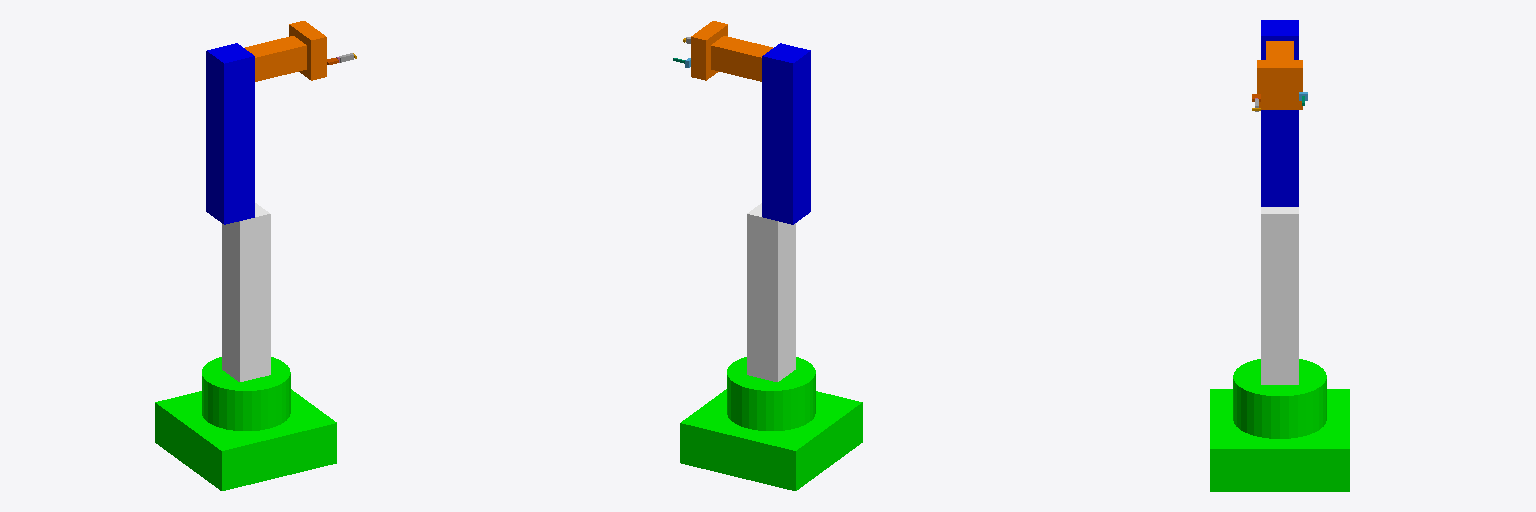
URDF robot description (robot):
<?xml version='1.0' encoding='utf-8'?>
<robot name="robot">
  <link name="base_link">
    <visual>
      <origin xyz="0 0 0.125" rpy="0 0 0" />
      <geometry>
        <box size="0.75 0.75 0.25" />
      </geometry>
      <material name="green" />
    </visual>
    <visual>
      <origin xyz="0 0 0.375" rpy="0 0 0" />
      <geometry>
        <cylinder length="0.25" radius="0.25" />
      </geometry>
      <material name="green">
        <color rgba="0 1 0 1" />
      </material>
    </visual>
    <collision>
      <geometry>
        <box size="0.75 0.75 0.5" />
      </geometry>
    </collision>
    <inertial>
      <mass value="0.5" />
      <inertia ixx="0.034" ixy="0.0" ixz="0.0" iyy="0.034" iyz="0.0" izz="0.034" />
    </inertial>
  </link>
  <link name="support_link">
    <visual>
      <origin xyz="0 0 0.5" rpy="0 0 0" />
      <geometry>
        <box size="0.2 0.2 1" />
      </geometry>
      <material name="white">
        <color rgba="1 1 1 1" />
      </material>
    </visual>
    <collision>
      <geometry>
        <box size="0.2 0.2 1" />
      </geometry>
    </collision>
    <inertial>
      <mass value="0.1" />
      <inertia ixx="0.01" ixy="0.0" ixz="0.0" iyy="0.01" iyz="0.0" izz="0.01" />
    </inertial>
  </link>
  <joint name="support_joint" type="continuous">
    <origin xyz="0 0 0.5" rpy="0 0 0" />
    <parent link="base_link" />
    <child link="support_link" />
    <axis xyz="0 0 1" />
  </joint>
  <link name="arm_link">
    <visual>
      <origin xyz="0 0 0.5" rpy="0 0 0" />
      <geometry>
        <box size="0.2 0.2 1" />
      </geometry>
      <material name="blue">
        <color rgba="0 0 1 1" />
      </material>
    </visual>
    <collision>
      <geometry>
        <box size="0.2 0.2 1" />
      </geometry>
    </collision>
    <inertial>
      <mass value="0.1" />
      <inertia ixx="0.01" ixy="0.0" ixz="0.0" iyy="0.01" iyz="0.0" izz="0.01" />
    </inertial>
  </link>
  <joint name="arm_joint" type="revolute">
    <origin xyz="-0.1 0 1" rpy="0 0 0" />
    <parent link="support_link" />
    <child link="arm_link" />
    <axis xyz="0 1 0" />
    <limit lower="-3.14" upper="3.14" effort="1.0" velocity="1.0" />
  </joint>
  <link name="wrist_link">
    <visual>
      <origin xyz="0 0 0.25" rpy="0 0 0" />
      <geometry>
        <box size="0.15 0.15 0.5" />
      </geometry>
      <material name="orange">
        <color rgba="1 0.5 0 1" />
      </material>
    </visual>
    <collision>
      <geometry>
        <box size="0.15 0.15 0.5" />
      </geometry>
    </collision>
    <inertial>
      <mass value="0.1" />
      <inertia ixx="0.01" ixy="0.0" ixz="0.0" iyy="0.01" iyz="0.0" izz="0.01" />
    </inertial>
  </link>
  <joint name="wrist_joint" type="fixed">
    <origin xyz="0 0 0.9" rpy="0 1.571 0" />
    <parent link="arm_link" />
    <child link="wrist_link" />
  </joint>
  <link name="palm_link">
    <visual>
      <origin xyz="0 0 0.05" rpy="0 0 0" />
      <geometry>
        <box size="0.25 0.25 0.1" />
      </geometry>
      <material name="orange" />
    </visual>
    <collision>
      <geometry>
        <box size="0.25 0.25 0.1" />
      </geometry>
    </collision>
    <inertial>
      <mass value="0.1" />
      <inertia ixx="0.01" ixy="0.0" ixz="0.0" iyy="0.01" iyz="0.0" izz="0.01" />
    </inertial>
  </link>
  <joint name="palm_joint" type="fixed">
    <origin xyz="0 0 0.45" rpy="0 0 0" />
    <parent link="wrist_link" />
    <child link="palm_link" />
  </joint>
  <link name="finger_link_0_0">
    <visual>
      <origin xyz="0 0 0.034" rpy="0 0 0" />
      <geometry>
        <box size="0.017 0.045 0.068" />
      </geometry>
    </visual>
    <collision>
      <geometry>
        <box size="0.017 0.045 0.068" />
      </geometry>
    </collision>
    <inertial>
      <mass value="0.016" />
      <inertia ixx="0.0" iyy="0.0" izz="0.0" ixy="0" ixz="0" iyz="0" />
    </inertial>
  </link>
  <joint name="finger_joint_palm_link_to_finger_link_0_0" type="revolute">
    <origin xyz="0.036 -0.125 0.1" rpy="0 0 0" />
    <parent link="palm_link" />
    <child link="finger_link_0_0" />
    <axis xyz="1.0 0.0 0.0" />
    <limit lower="-3.142" upper="3.142" effort="10" velocity="10" />
  </joint>
  <link name="finger_link_0_1">
    <visual>
      <origin xyz="0 0 0.008" rpy="0 0 0" />
      <geometry>
        <box size="0.029 0.017 0.016" />
      </geometry>
    </visual>
    <collision>
      <geometry>
        <box size="0.029 0.017 0.016" />
      </geometry>
    </collision>
    <inertial>
      <mass value="0.002" />
      <inertia ixx="0.0" iyy="0.0" izz="0.0" ixy="0" ixz="0" iyz="0" />
    </inertial>
  </link>
  <joint name="finger_joint_finger_link_0_0_to_finger_link_0_1" type="revolute">
    <origin xyz="0.0 0.0 0.068" rpy="0 0 0" />
    <parent link="finger_link_0_0" />
    <child link="finger_link_0_1" />
    <axis xyz="0.0 1.0 0.0" />
    <limit lower="-3.142" upper="3.142" effort="10" velocity="10" />
  </joint>
  <link name="finger_link_0_2">
    <visual>
      <origin xyz="0 0 0.044" rpy="0 0 0" />
      <geometry>
        <box size="0.032 0.021 0.088" />
      </geometry>
    </visual>
    <collision>
      <geometry>
        <box size="0.032 0.021 0.088" />
      </geometry>
    </collision>
    <inertial>
      <mass value="0.018" />
      <inertia ixx="0.0" iyy="0.0" izz="0.0" ixy="0" ixz="0" iyz="0" />
    </inertial>
  </link>
  <joint name="finger_joint_finger_link_0_1_to_finger_link_0_2" type="revolute">
    <origin xyz="0.0 0.0 0.016" rpy="0 0 0" />
    <parent link="finger_link_0_1" />
    <child link="finger_link_0_2" />
    <axis xyz="1.0 0.0 0.0" />
    <limit lower="-3.142" upper="3.142" effort="10" velocity="10" />
  </joint>
  <link name="finger_link_0_3">
    <visual>
      <origin xyz="0 0 0.006" rpy="0 0 0" />
      <geometry>
        <box size="0.015 0.043 0.012" />
      </geometry>
    </visual>
    <collision>
      <geometry>
        <box size="0.015 0.043 0.012" />
      </geometry>
    </collision>
    <inertial>
      <mass value="0.002" />
      <inertia ixx="0.0" iyy="0.0" izz="0.0" ixy="0" ixz="0" iyz="0" />
    </inertial>
  </link>
  <joint name="finger_joint_finger_link_0_2_to_finger_link_0_3" type="revolute">
    <origin xyz="0.0 0.0 0.088" rpy="0 0 0" />
    <parent link="finger_link_0_2" />
    <child link="finger_link_0_3" />
    <axis xyz="1.0 1.0 0.0" />
    <limit lower="-3.142" upper="3.142" effort="10" velocity="10" />
  </joint>
  <link name="finger_link_1_0">
    <visual>
      <origin xyz="0 0 0.011" rpy="0 0 0" />
      <geometry>
        <box size="0.044 0.044 0.022" />
      </geometry>
    </visual>
    <collision>
      <geometry>
        <box size="0.044 0.044 0.022" />
      </geometry>
    </collision>
    <inertial>
      <mass value="0.013" />
      <inertia ixx="0.0" iyy="0.0" izz="0.0" ixy="0" ixz="0" iyz="0" />
    </inertial>
  </link>
  <joint name="finger_joint_palm_link_to_finger_link_1_0" type="revolute">
    <origin xyz="0.04 0.125 0.1" rpy="0 0 0" />
    <parent link="palm_link" />
    <child link="finger_link_1_0" />
    <axis xyz="-1.0 0.0 0.0" />
    <limit lower="-3.142" upper="3.142" effort="10" velocity="10" />
  </joint>
  <link name="finger_link_1_1">
    <visual>
      <origin xyz="0 0 0.0435" rpy="0 0 0" />
      <geometry>
        <box size="0.016 0.012 0.087" />
      </geometry>
    </visual>
    <collision>
      <geometry>
        <box size="0.016 0.012 0.087" />
      </geometry>
    </collision>
    <inertial>
      <mass value="0.005" />
      <inertia ixx="0.0" iyy="0.0" izz="0.0" ixy="0" ixz="0" iyz="0" />
    </inertial>
  </link>
  <joint name="finger_joint_finger_link_1_0_to_finger_link_1_1" type="revolute">
    <origin xyz="0.0 0.0 0.022" rpy="0 0 0" />
    <parent link="finger_link_1_0" />
    <child link="finger_link_1_1" />
    <axis xyz="0.0 1.0 0.0" />
    <limit lower="-3.142" upper="3.142" effort="10" velocity="10" />
  </joint>
</robot>

--- Facts derived from the render (not from the file) ---
Views: 3 orthographic renders of the robot side by side, from view 1: azimuth 30°, elevation 25°; view 2: azimuth 150°, elevation 25°; view 3: azimuth 270°, elevation 25°.
Robot: robot — 11 links, 10 joints (7 revolute, 1 continuous, 2 fixed); root link base_link; default pose: every joint at zero.
Visible links, largest first — view 1: base_link, arm_link, support_link, wrist_link, palm_link; view 2: base_link, arm_link, support_link, wrist_link, palm_link; view 3: base_link, support_link, arm_link, palm_link, wrist_link.
Boxes of the visible links, bbox=[...] form: base_link: bbox=[155, 357, 336, 490]; arm_link: bbox=[206, 43, 254, 224]; support_link: bbox=[222, 203, 270, 381]; wrist_link: bbox=[245, 36, 306, 81]; palm_link: bbox=[289, 21, 326, 80]; base_link: bbox=[680, 357, 862, 490]; arm_link: bbox=[762, 43, 810, 224]; support_link: bbox=[747, 203, 795, 381]; wrist_link: bbox=[711, 36, 772, 81]; palm_link: bbox=[691, 21, 727, 80]; base_link: bbox=[1210, 359, 1349, 491]; support_link: bbox=[1261, 207, 1298, 384]; arm_link: bbox=[1261, 20, 1298, 206]; palm_link: bbox=[1257, 60, 1302, 109]; wrist_link: bbox=[1266, 41, 1293, 59].
Bounding box of the posed robot: 1.01 × 0.75 × 2.52 m (x, y, z).
Geometry: primitives only (box / cylinder / sphere), no mesh files.